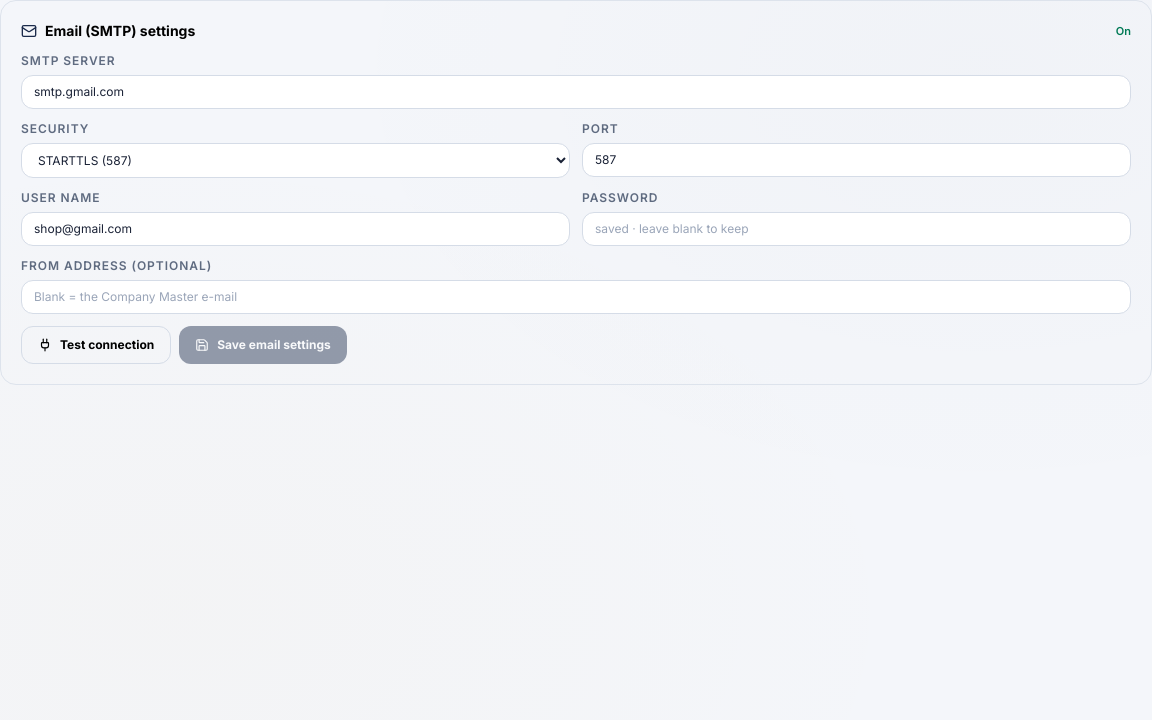
Scenario: SmtpSetting › tests the connection with the typed password encrypted
This screenshot has width=1152, height=720.
Expected: the field showing "smtp.gmail.com" is shown, top-left (21, 75), bottom-right (1131, 109)
In the password field labelled "Password": (856, 229) top-left (582, 212), bottom-right (1131, 246), type "app pass"
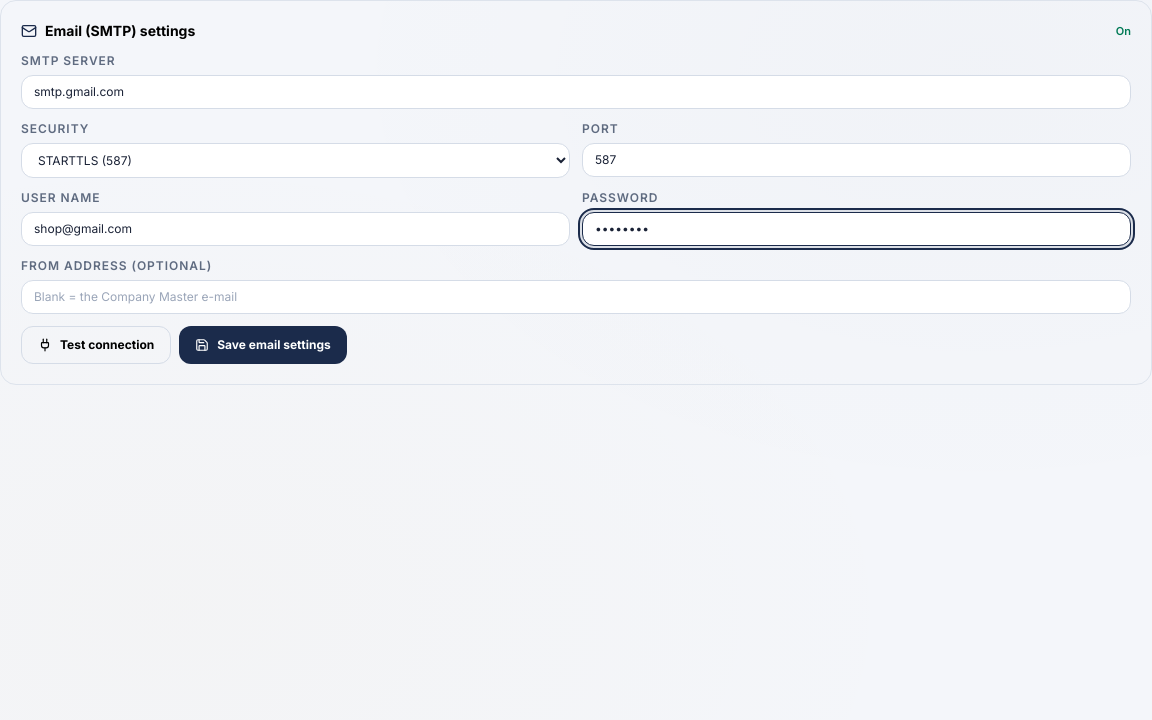
Click the button "Test connection": (96, 345) top-left (21, 326), bottom-right (171, 364)
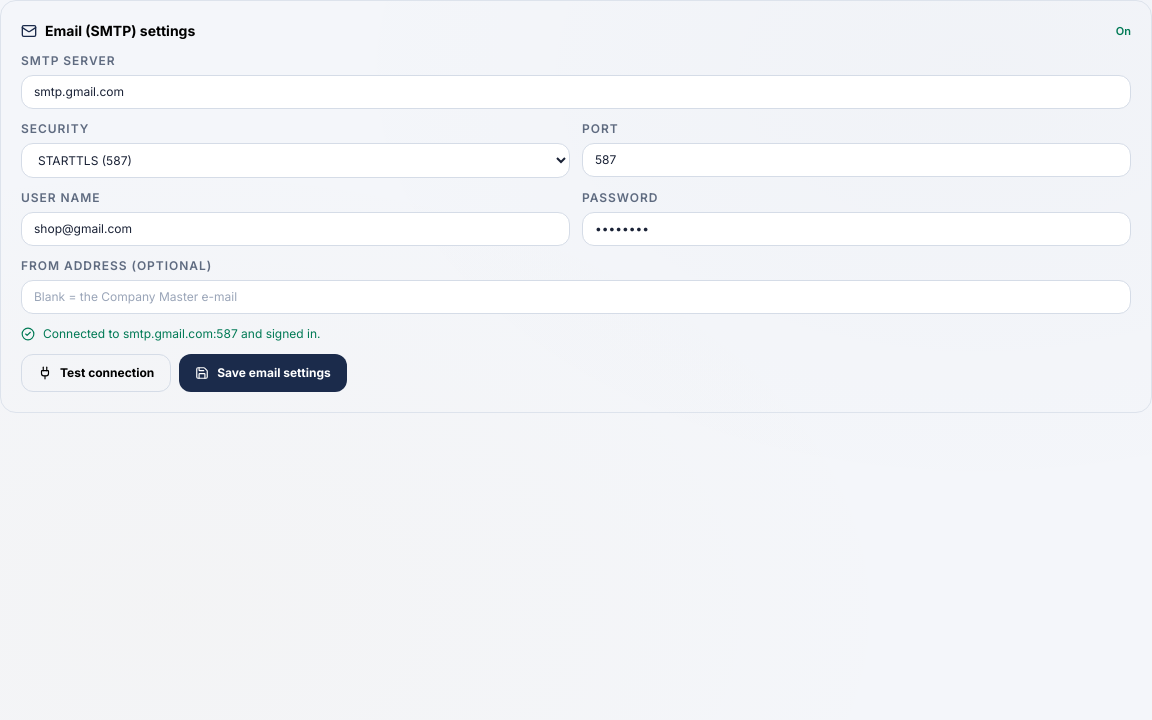
Result: the text "Connected to smtp.gmail.com:587 and signed in." is shown at top-left (21, 326), bottom-right (320, 341)
